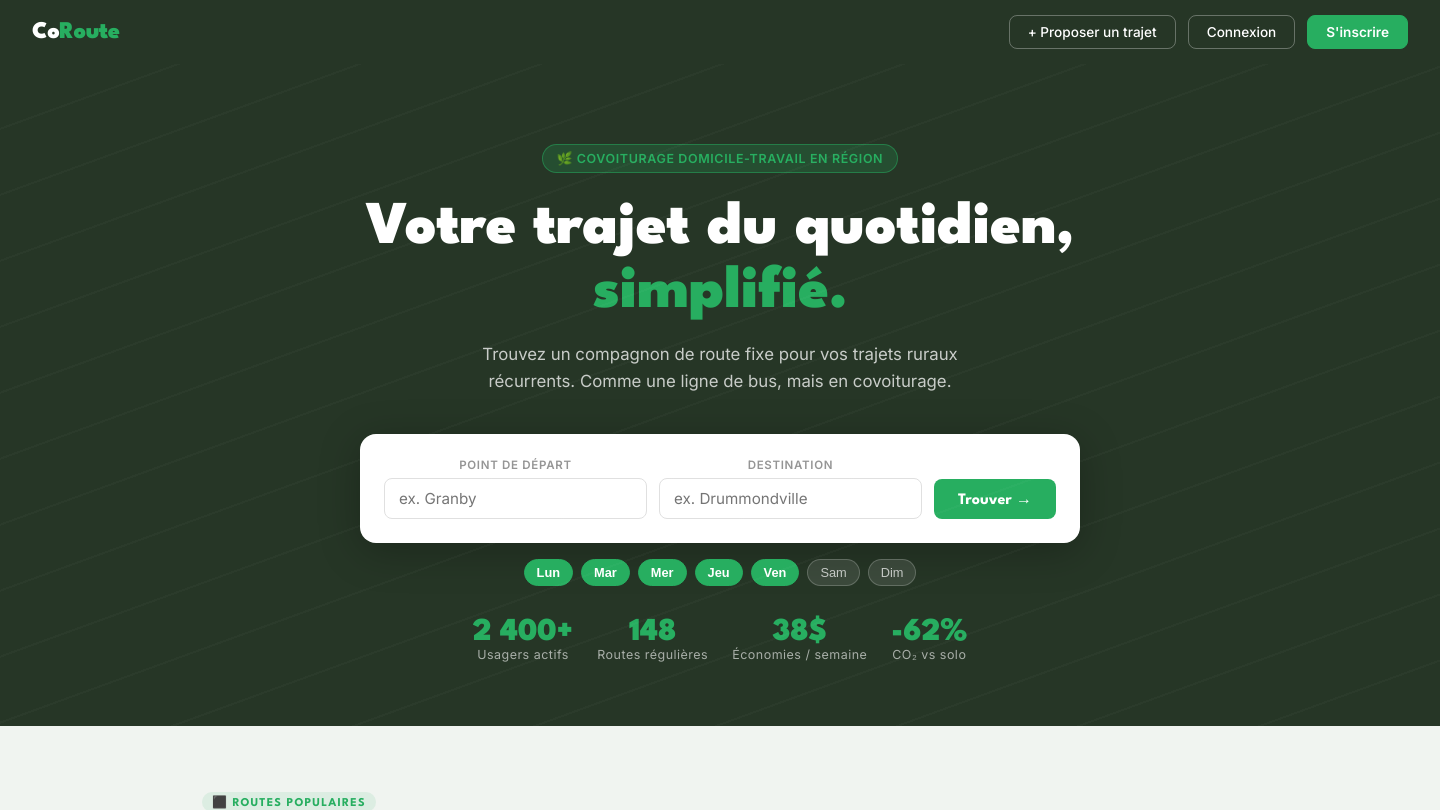
it: App › ferme le modal de connexion au clic sur ✕
Click the button "Connexion".
click(1242, 32)  # box [1188, 15, 1295, 49]
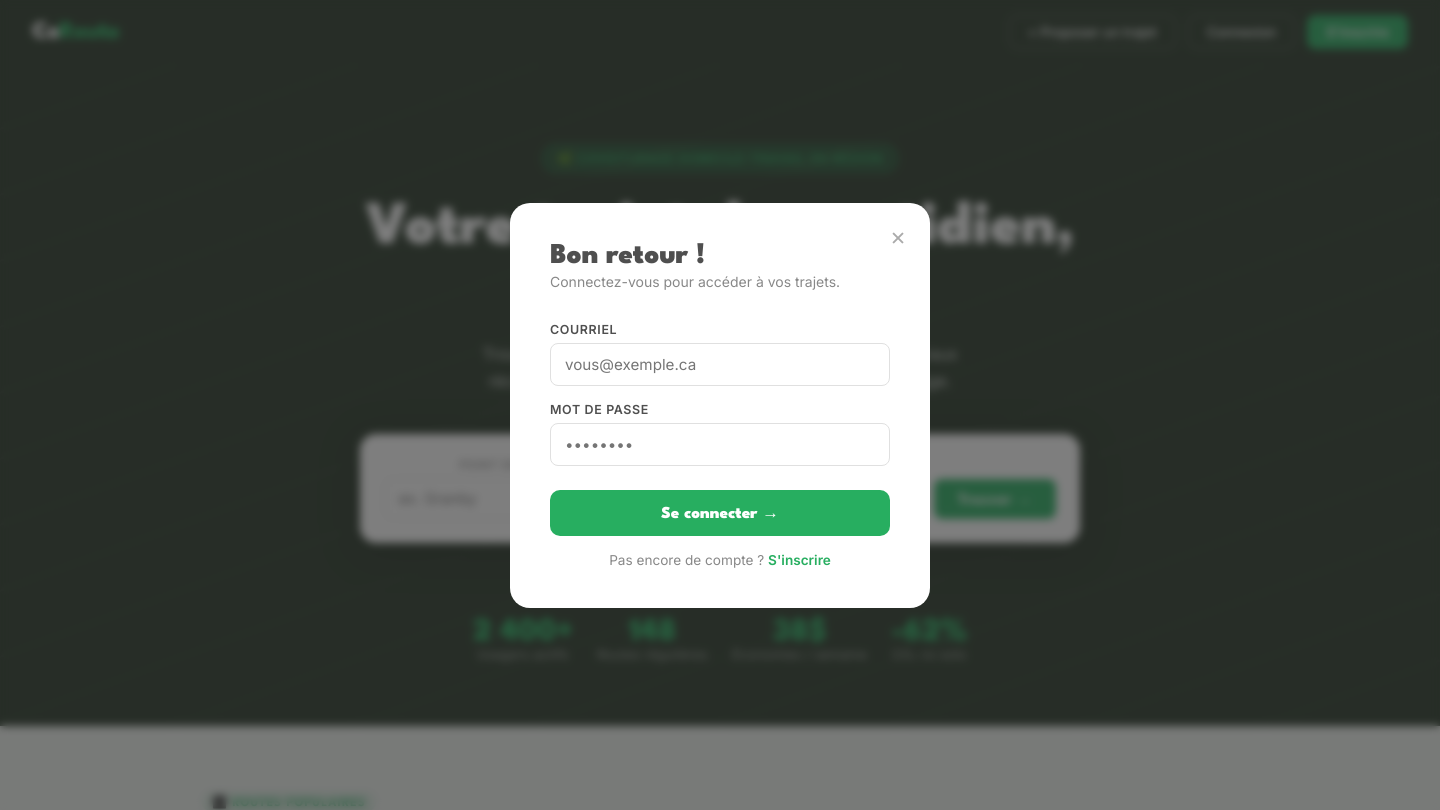
Click the button named "Fermer".
click(898, 238)  # box [890, 226, 906, 250]
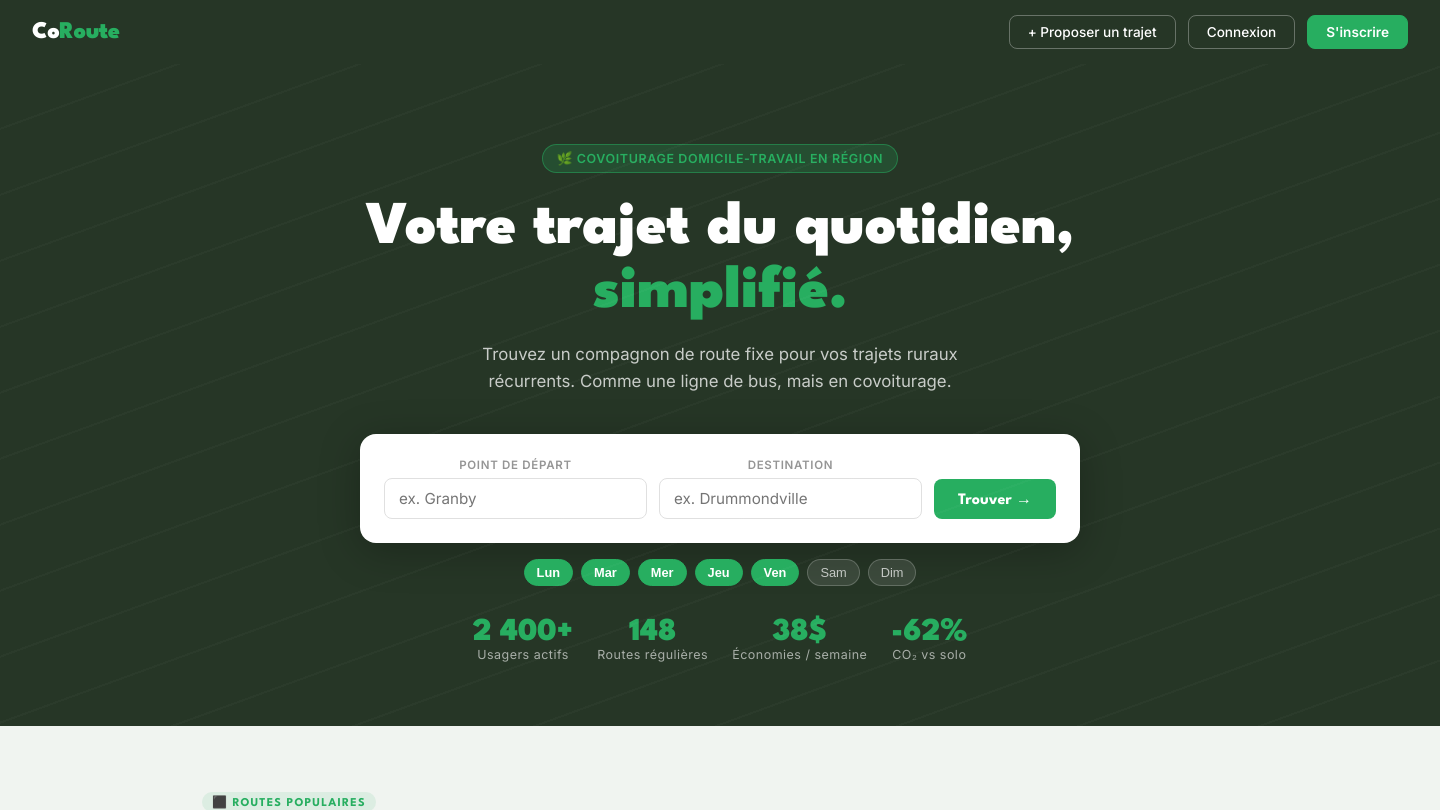
Expected: the dialog is gone
